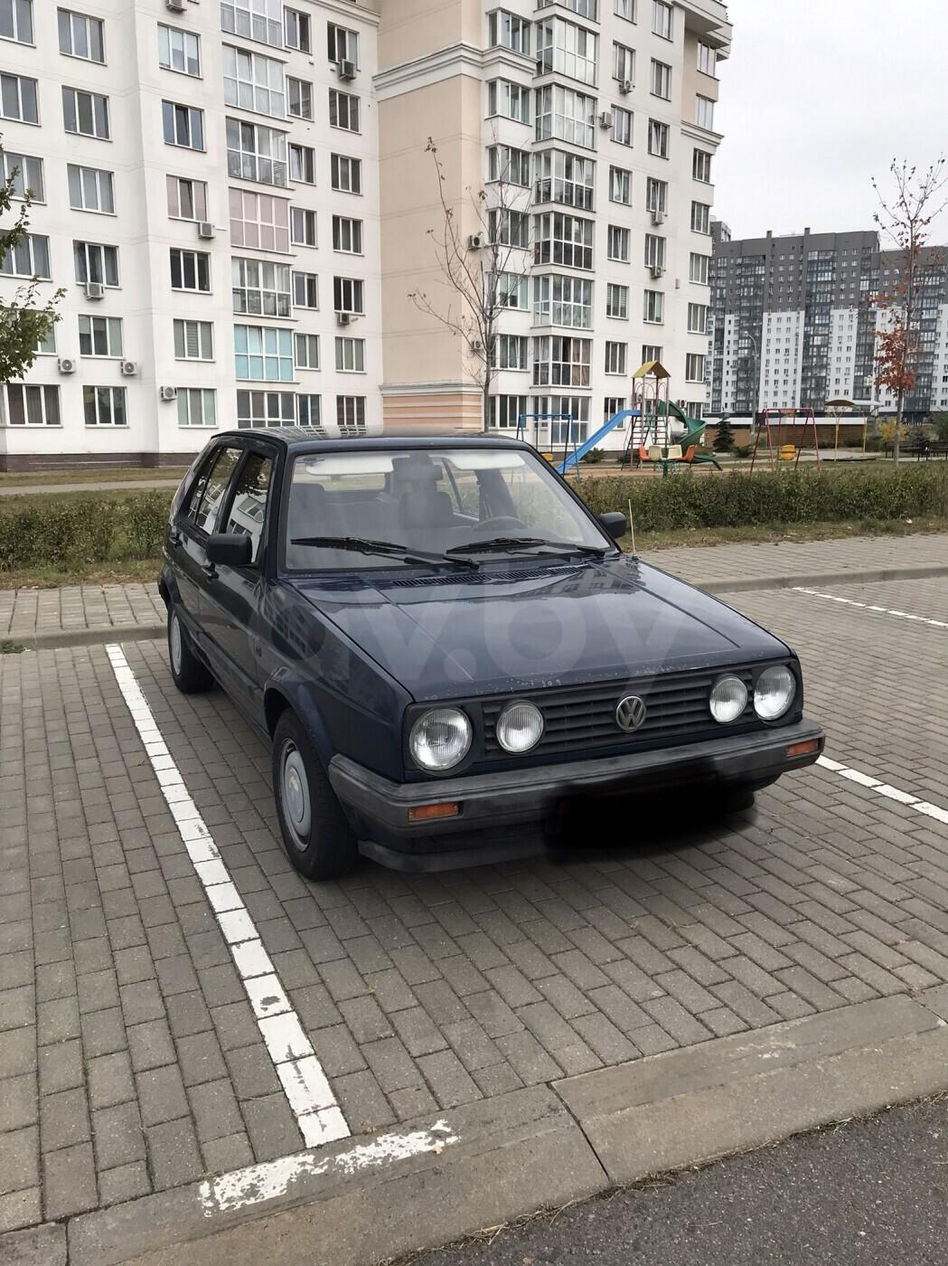Golf_1983-1992: (157, 421, 821, 890)
